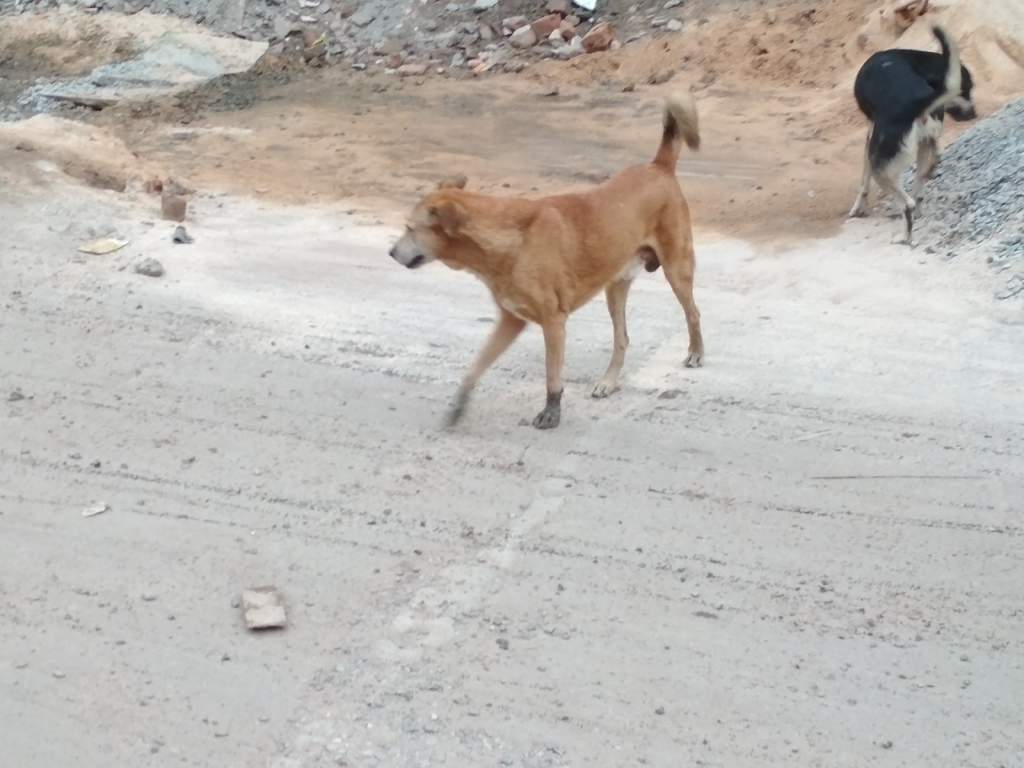dog: (389, 96, 702, 429), (849, 24, 975, 244)
